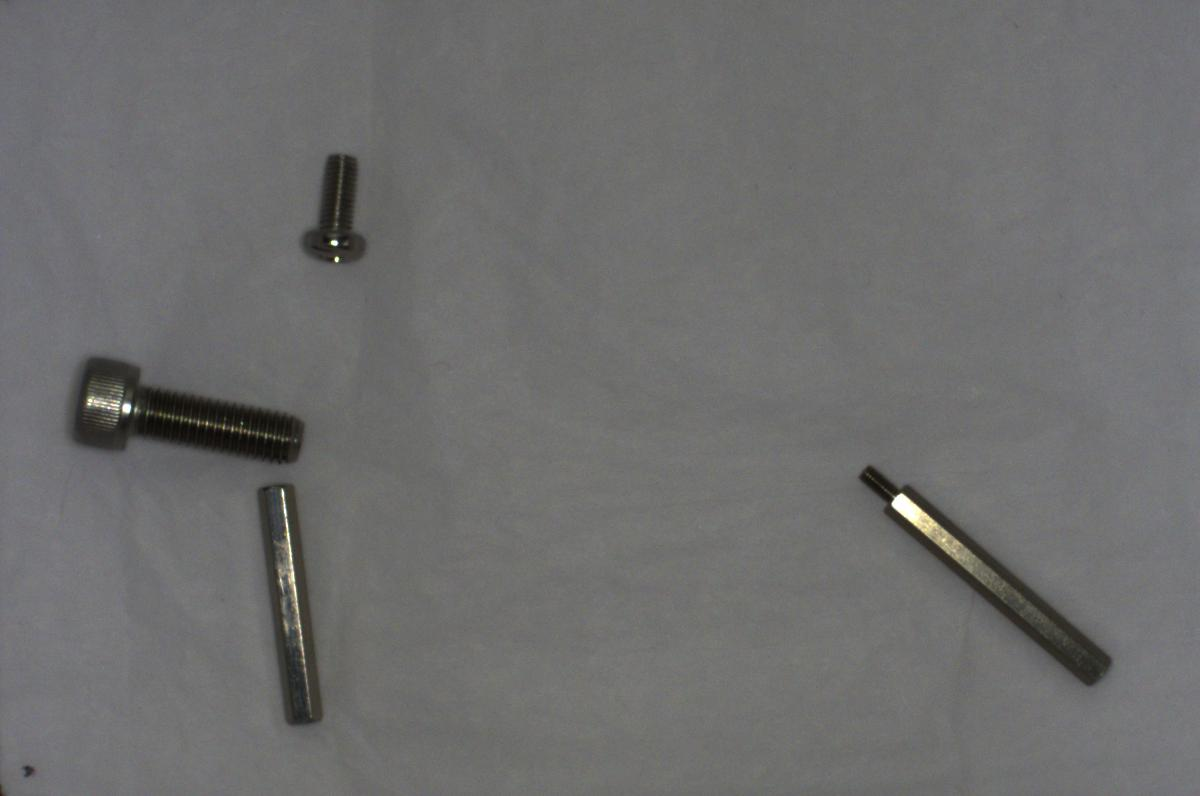Double hexagonal column: (245, 474, 338, 735)
Hexagon screw: (60, 343, 307, 473)
Hexagonal steel column: (855, 461, 1117, 686)
Round head screw: (297, 145, 372, 268)
